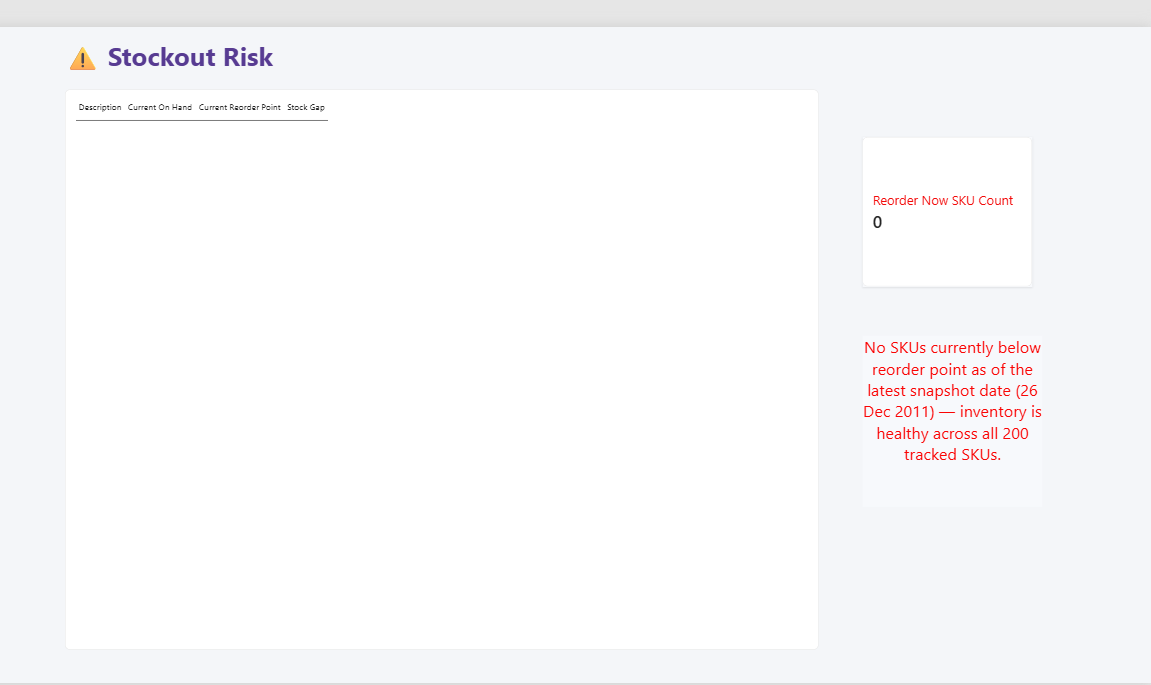

Layout of this report page (visuals, bound fields, positions):
{"tool":"powerbi","page":{"name":"Stockout Risk","canvas":[1920,1080],"ordinal":5},"visuals":[{"type":"cardVisual","fields":{"Data":["_Measures.Reorder Now SKU Count"]},"box":[1444.9,181.1,279.9,247],"z":0},{"type":"tableEx","fields":{"Values":["Sku_master.Description","_Measures.Current On Hand","_Measures.Current Reorder Point","_Measures.Stock Gap"]},"box":[131.7,102.9,1241.2,922.1],"z":1000},{"type":"textbox","box":[1444.9,508.4,296.4,282],"z":2000},{"type":"textbox","box":[131.7,18.5,621.6,84.4],"z":3000}]}

Visuals, with their boxes on the page's 1920x1080 design canvas (x1, y1, x2, y2). These are canvas units, not pixel positions in the 1151x685 screenshot, which may show the page scaled, cropped or inside an application window:
cardVisual - _Measures.Reorder Now SKU Count: 1445, 181, 1725, 428
tableEx - Sku_master.Description x _Measures.Current On Hand: 132, 103, 1373, 1025
textbox: 1445, 508, 1741, 790
textbox: 132, 18, 753, 103
